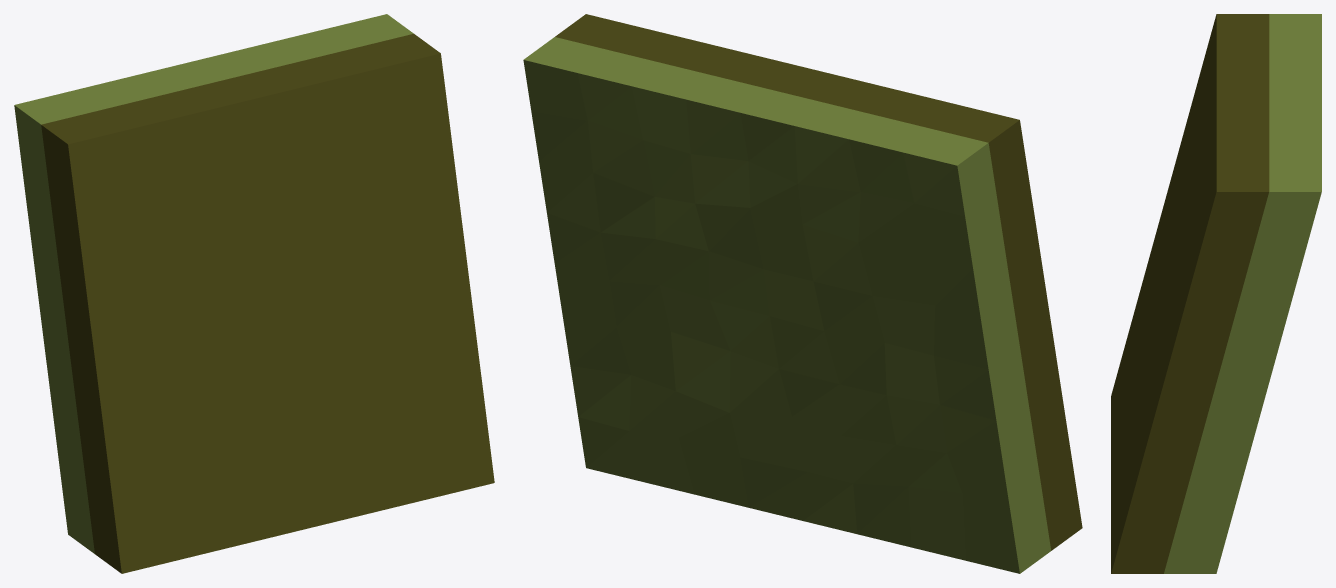
Rendered from Slant_Up.fbx.
The picture shows the model from 3 angles, left to right: view 1: azimuth 30°, elevation 25°; view 2: azimuth 150°, elevation 25°; view 3: azimuth 270°, elevation 25°; orthographic projection. The views are drawn at different scales.
Parts seen in each view (by area): view 1: Slant_Up; view 2: Slant_Up; view 3: Slant_Up.
Boxes of the visible parts, x1,y1,x2,y2 form: Slant_Up: (14,14,494,573); Slant_Up: (523,14,1082,573); Slant_Up: (1111,14,1321,573).
Size of the model in its own units: 400 by 400 by 200.
